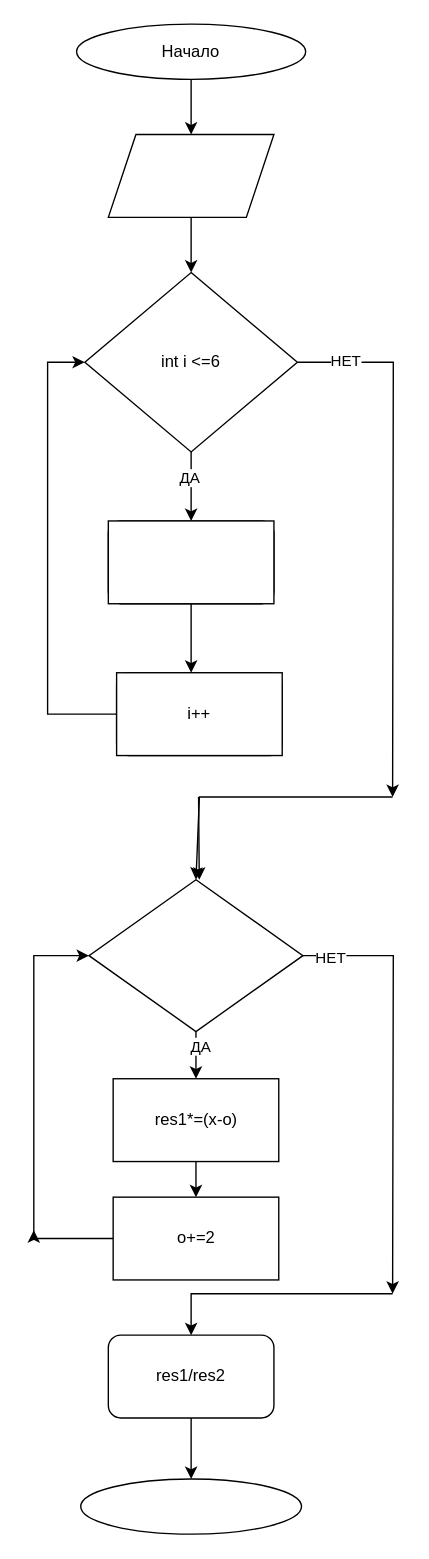
The diagram is 429 pixels wide and 1559 high, and some of its shapes have lost their labels. The shapes that lost their labels are listed below. From the top down, each one's box as (x1, y1, x2, y2) in pixels, then its label:
(107, 133, 274, 217): Ввод x
(107, 520, 274, 604): res2*= (x - pow(x, 2))
(88, 878, 303, 1032): int o<=63
(79, 1478, 302, 1534): Конец
